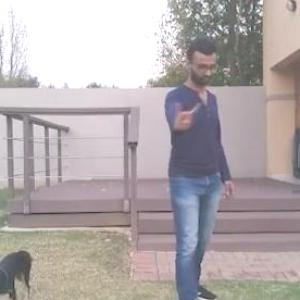takeoff-hand: (171, 96, 200, 132)
